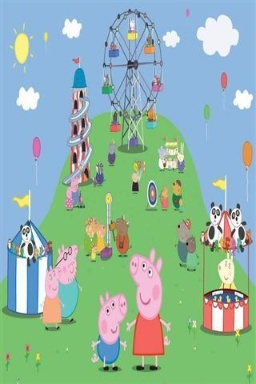Peppa: (127, 247, 173, 373)
